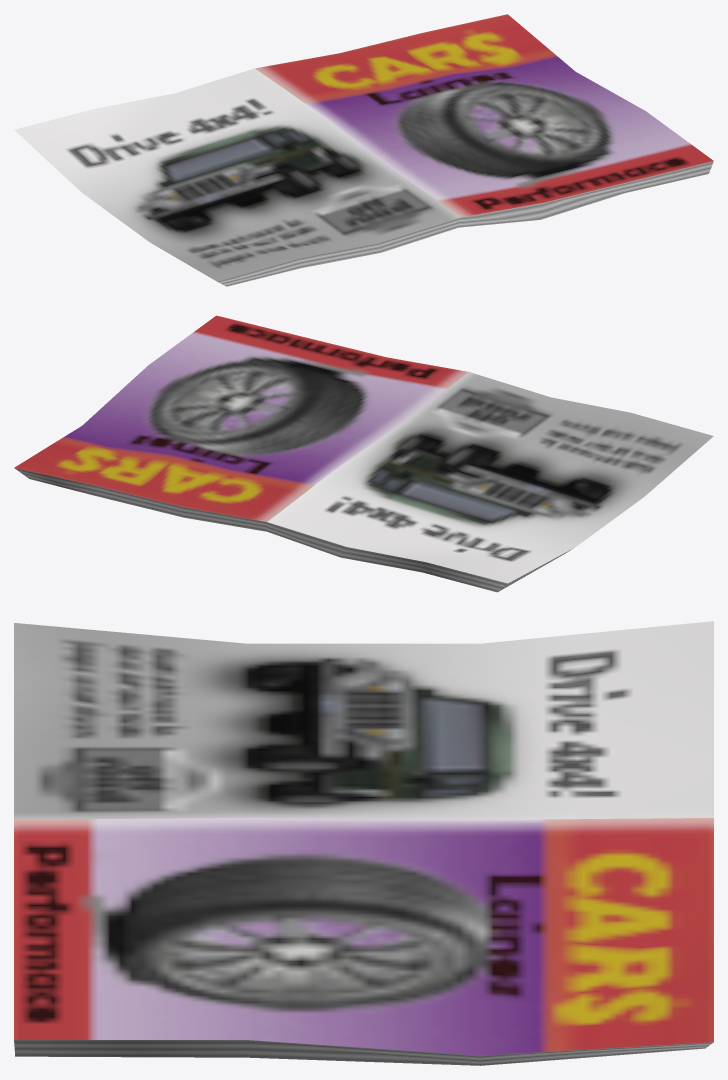
The model's file is model_MagazineOpenFaceDown.fbx.
3 views of the same model, one above another, from view 1: azimuth 30°, elevation 25°; view 2: azimuth 150°, elevation 25°; view 3: azimuth 270°, elevation 25° (orthographic). The views are drawn at different scales.
Visible parts, largest first — view 1: MagazineOpenFaceDown; view 2: MagazineOpenFaceDown; view 3: MagazineOpenFaceDown.
Boxes of the visible parts, bbox=[...] form: MagazineOpenFaceDown: bbox=[14, 14, 713, 286]; MagazineOpenFaceDown: bbox=[14, 315, 713, 592]; MagazineOpenFaceDown: bbox=[14, 621, 713, 1065].
Bounding box in the file's own units: 0.8046 × 0.039 × 0.5725.
